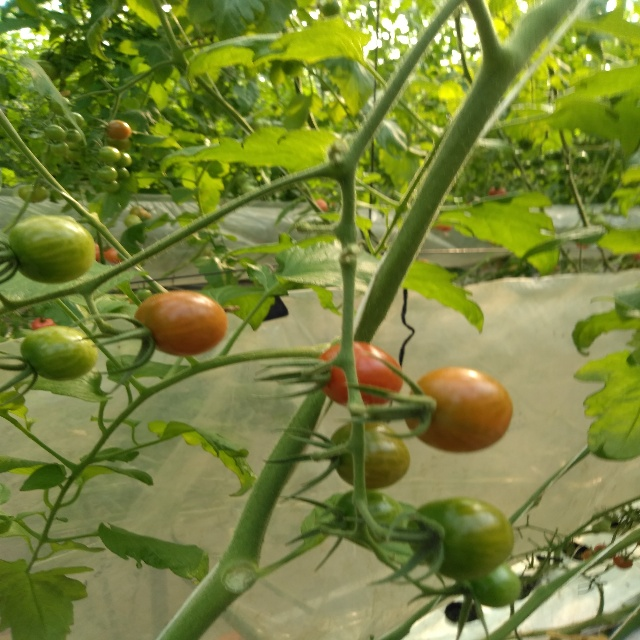l_fully_ripened: (314, 340, 403, 410)
l_green: (407, 496, 513, 582), (9, 215, 97, 285), (18, 326, 98, 382), (335, 487, 404, 544), (460, 563, 521, 607)
l_half_ripened: (404, 366, 512, 453), (134, 289, 228, 357), (329, 418, 411, 490)
